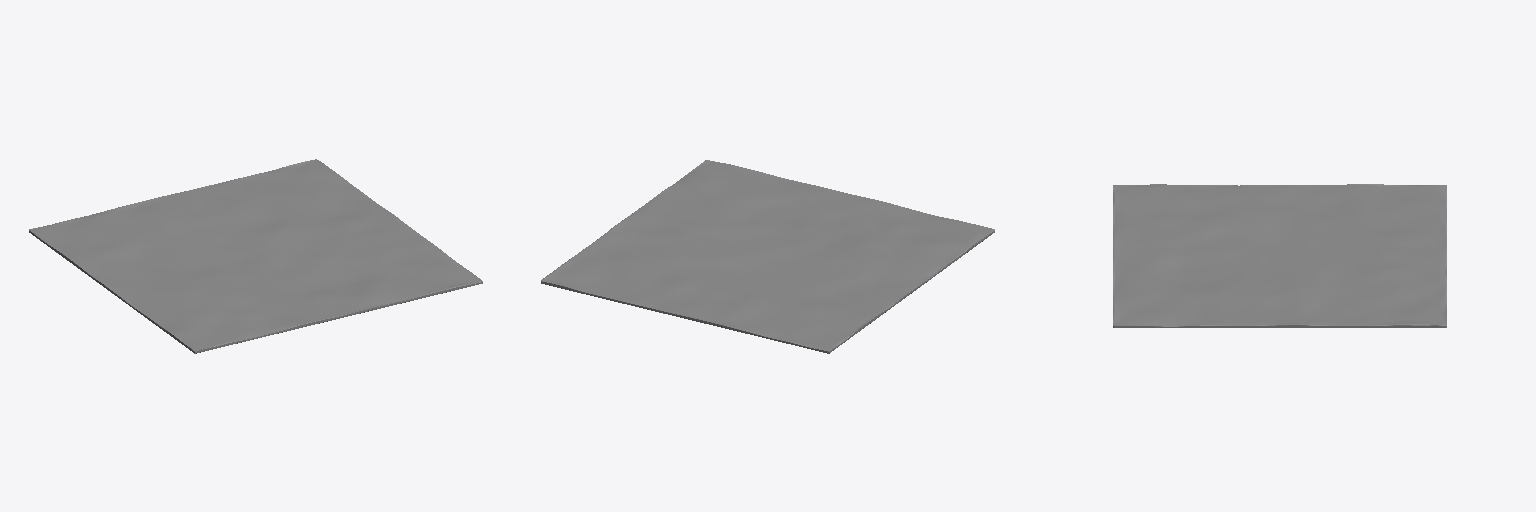
File: floor.obj
3 views of the same model, side by side, from view 1: azimuth 30°, elevation 25°; view 2: azimuth 150°, elevation 25°; view 3: azimuth 270°, elevation 25° (orthographic).
Parts seen in each view (by area): view 1: 10450_Rectangular_Grass_Patch_v1.002; view 2: 10450_Rectangular_Grass_Patch_v1.002; view 3: 10450_Rectangular_Grass_Patch_v1.002.
Boxes of the visible parts, <box> form: 10450_Rectangular_Grass_Patch_v1.002: <box>29,159,482,353</box>; 10450_Rectangular_Grass_Patch_v1.002: <box>541,160,994,353</box>; 10450_Rectangular_Grass_Patch_v1.002: <box>1113,184,1446,327</box>.
Bounding box in the file's own units: 300 × 3.53 × 300.